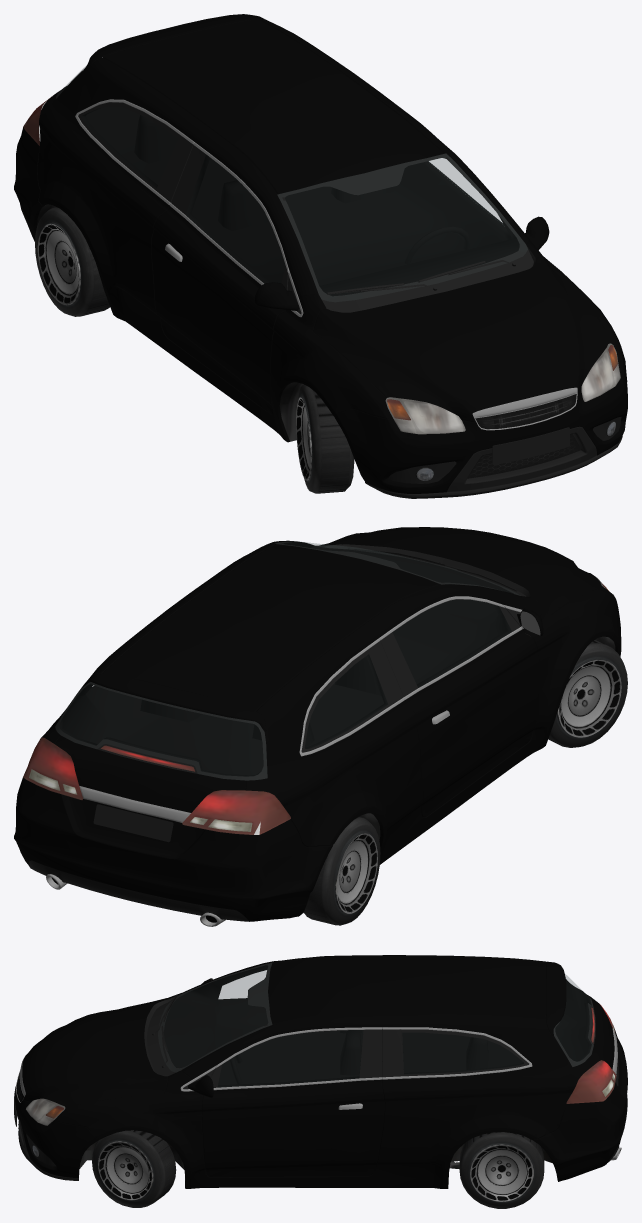
File: wagon.glb
The picture shows the model from 3 angles, top to bottom: view 1: azimuth 30°, elevation 25°; view 2: azimuth 150°, elevation 25°; view 3: azimuth 270°, elevation 25°; orthographic projection. The views are drawn at different scales.
Parts seen in each view (by area): view 1: body, interior_void_0, glass, doors, bumper_front, glass_trim, wheel_3_rimstock_14_0, wheel_4_rimstock_14_0, glass_light, grill_grill_0, spoiler, numberplate (+4 smaller); view 2: body, doors, interior_void_0, glass, glass_light, wheel_4_rimstock_14_0, wheel_3_rimstock_14_0, glass_trim, spoiler, rear_splitter_plastic_0, numberplate; view 3: body, doors, interior_void_0, glass, wheel_2_rimstock_14_0, wheel_1_rimstock_14_0, bumper_front, glass_trim, glass_light, spoiler, bottom, sidemirrors_body_0.
Part boxes in pixels (bbox=[...]): body: bbox=[14, 19, 622, 442]; interior_void_0: bbox=[60, 86, 519, 296]; glass: bbox=[56, 65, 527, 301]; doors: bbox=[151, 142, 504, 414]; bumper_front: bbox=[334, 345, 627, 498]; glass_trim: bbox=[56, 68, 535, 312]; wheel_3_rimstock_14_0: bbox=[35, 207, 109, 316]; wheel_4_rimstock_14_0: bbox=[296, 384, 354, 493]; glass_light: bbox=[23, 96, 620, 480]; grill_grill_0: bbox=[467, 394, 580, 478]; spoiler: bbox=[83, 14, 264, 71]; numberplate: bbox=[492, 427, 569, 464]; body: bbox=[14, 527, 616, 921]; doors: bbox=[379, 596, 538, 816]; interior_void_0: bbox=[59, 541, 513, 776]; glass: bbox=[56, 541, 517, 779]; glass_light: bbox=[23, 573, 608, 834]; wheel_4_rimstock_14_0: bbox=[548, 639, 627, 747]; wheel_3_rimstock_14_0: bbox=[304, 816, 380, 925]; glass_trim: bbox=[55, 541, 530, 780]; spoiler: bbox=[83, 673, 266, 731]; rear_splitter_plastic_0: bbox=[29, 860, 249, 921]; numberplate: bbox=[93, 804, 173, 842]; body: bbox=[22, 955, 627, 1188]; doors: bbox=[202, 1027, 384, 1176]; interior_void_0: bbox=[163, 965, 591, 1092]; glass: bbox=[158, 963, 592, 1073]; wheel_2_rimstock_14_0: bbox=[459, 1132, 544, 1208]; wheel_1_rimstock_14_0: bbox=[92, 1130, 176, 1207]; bumper_front: bbox=[15, 1085, 98, 1180]; glass_trim: bbox=[144, 962, 593, 1076]; glass_light: bbox=[26, 1004, 616, 1156]; spoiler: bbox=[546, 961, 566, 1035]; bottom: bbox=[79, 1094, 571, 1180]; sidemirrors_body_0: bbox=[188, 978, 213, 1097].
Size of the model in its own units: 77.63 by 52.67 by 168.
Materials: 10 (4 with a texture image).
